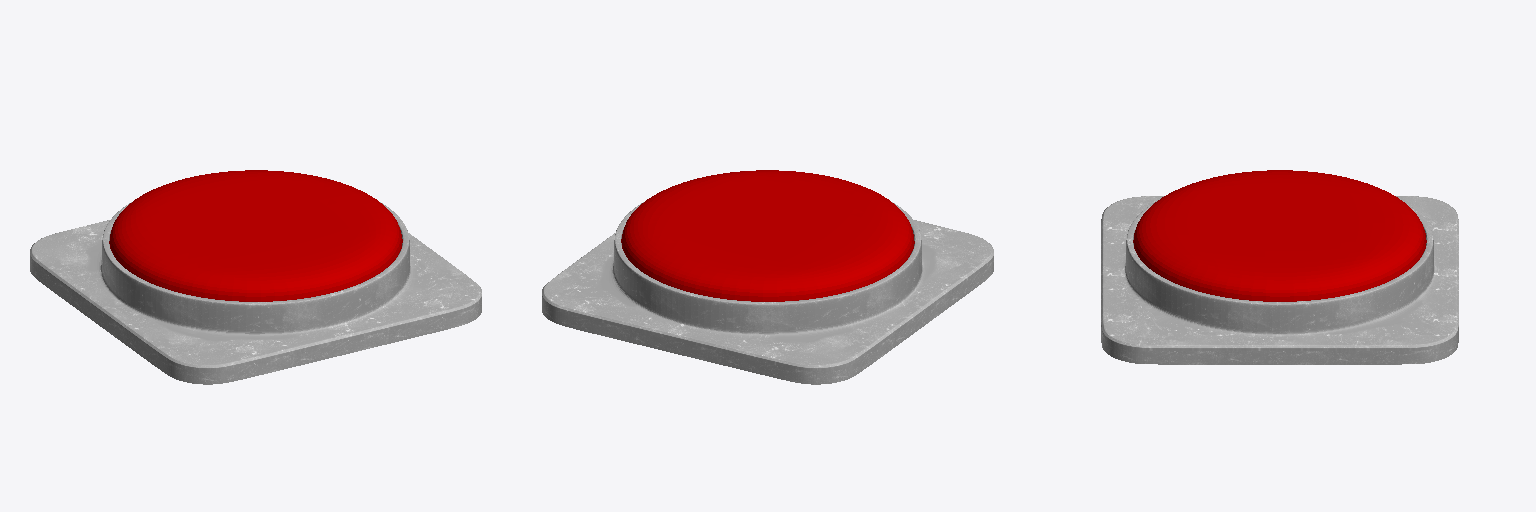
The picture shows the model from 3 angles: view 1: azimuth 30°, elevation 25°; view 2: azimuth 150°, elevation 25°; view 3: azimuth 270°, elevation 25°; orthographic projection.
Visible parts, largest first — view 1: button_1_Cube_Cube.002, button2_Cylinder.001; view 2: button_1_Cube_Cube.002, button2_Cylinder.001; view 3: button_1_Cube_Cube.002, button2_Cylinder.001.
Boxes of the visible parts, x1,y1,x2,y2 form: button_1_Cube_Cube.002: [30, 179, 481, 384]; button2_Cylinder.001: [109, 170, 402, 301]; button_1_Cube_Cube.002: [542, 179, 993, 384]; button2_Cylinder.001: [621, 170, 914, 301]; button_1_Cube_Cube.002: [1101, 196, 1458, 364]; button2_Cylinder.001: [1133, 170, 1426, 301].
Bounding box in the file's own units: 2 × 0.4061 × 2.
Materials: 1 (1 with a texture image).